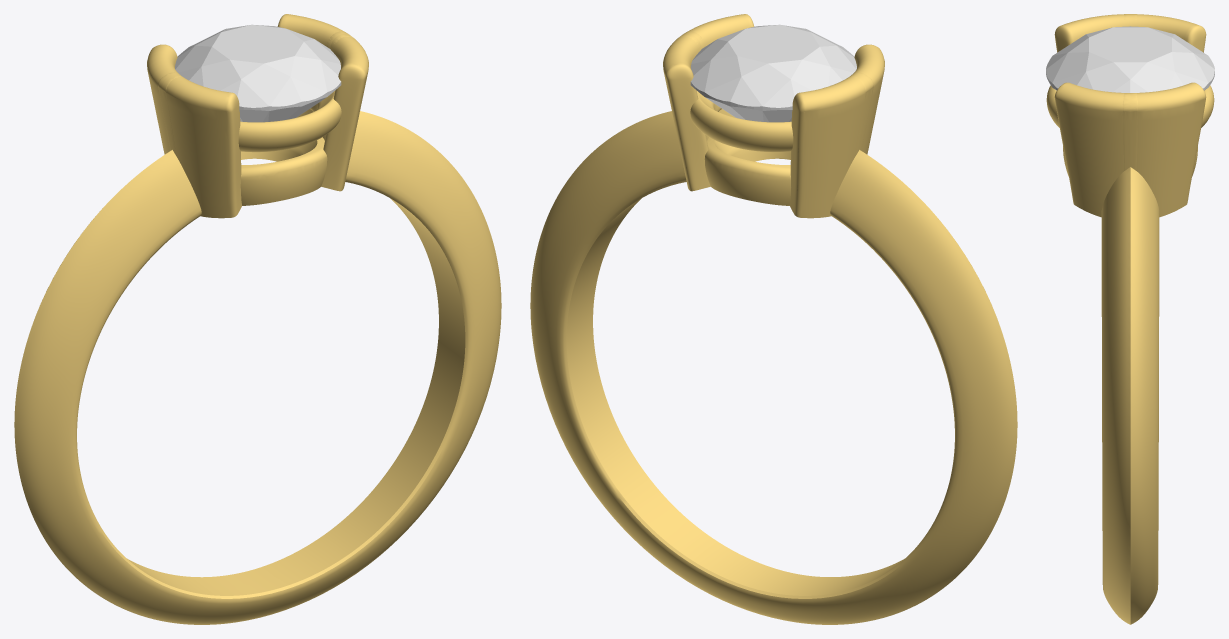
File: diamond-round-yellowgold-halfmoonbezel-knifeedge-nosidestones.glb
The picture shows the model from 3 angles, left to right: view 1: azimuth 30°, elevation 25°; view 2: azimuth 150°, elevation 25°; view 3: azimuth 270°, elevation 25°; orthographic projection. The views are drawn at different scales.
Visible parts, largest first — view 1: metal, stone; view 2: metal, stone; view 3: metal, stone.
Boxes of the visible parts, left/top/right/bottom form: metal: left=14, top=14, right=501, bottom=624; stone: left=175, top=24, right=341, bottom=122; metal: left=530, top=14, right=1017, bottom=624; stone: left=690, top=24, right=856, bottom=122; metal: left=1046, top=14, right=1214, bottom=624; stone: left=1046, top=26, right=1214, bottom=92.
Bounding box in the file's own units: 20.7 × 23.31 × 6.44.
